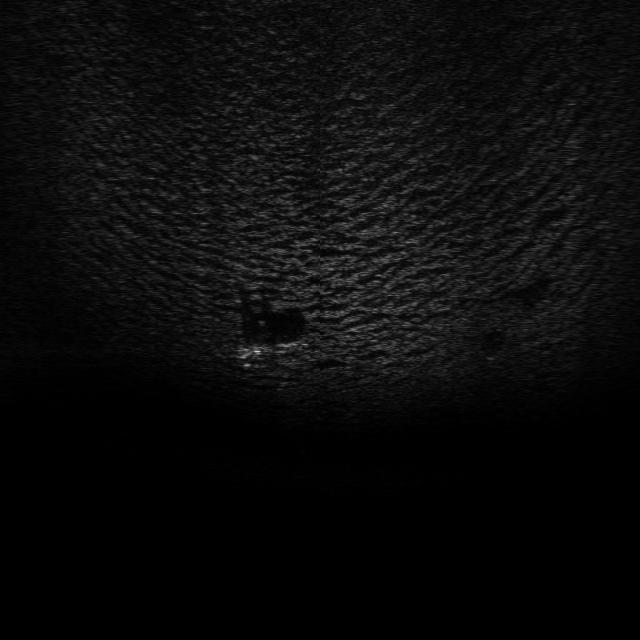plane: (236, 335, 306, 365)
